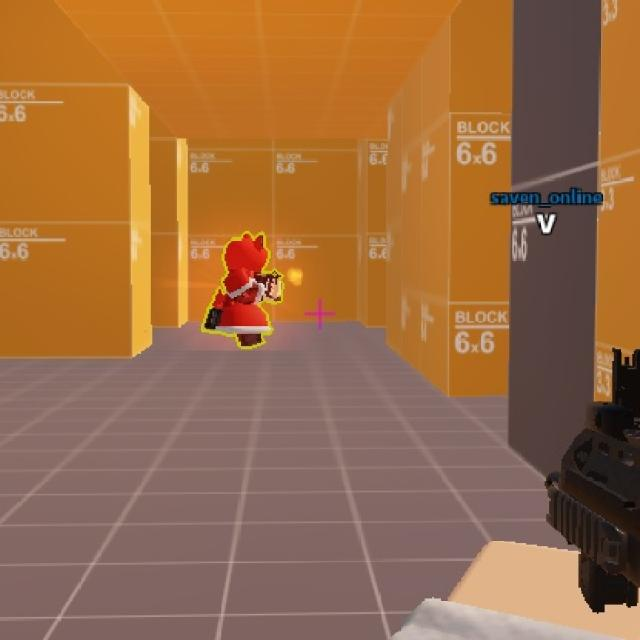player: (199, 227, 272, 347)
